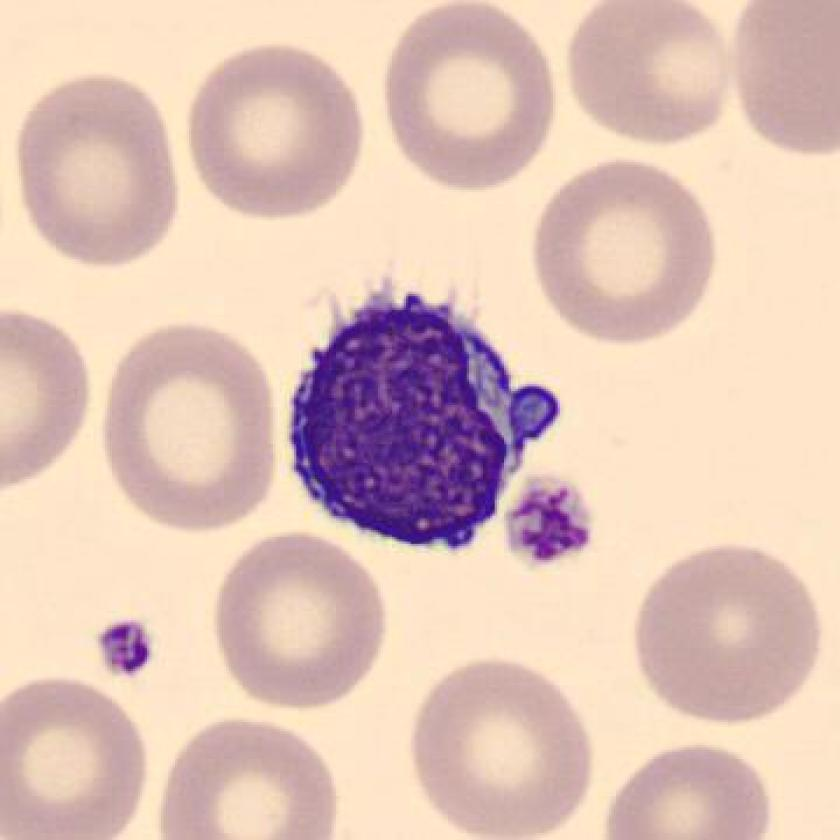lymphocyte: (260, 265, 575, 570)
